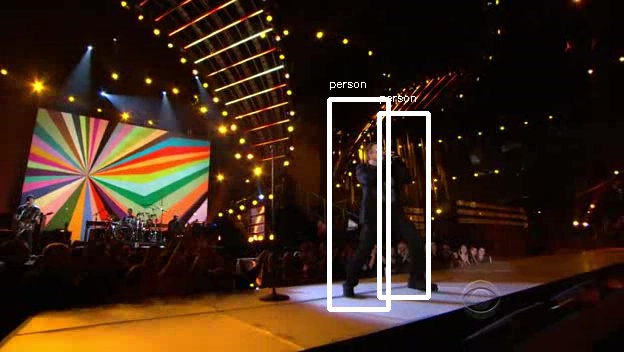person: (353, 139, 414, 249), (350, 139, 411, 249), (356, 139, 417, 249), (353, 136, 414, 246), (353, 142, 414, 252)
target_negative: (71, 193, 306, 300), (248, 236, 547, 293), (251, 110, 539, 150), (268, 135, 530, 160), (545, 195, 594, 236), (349, 234, 476, 244)
